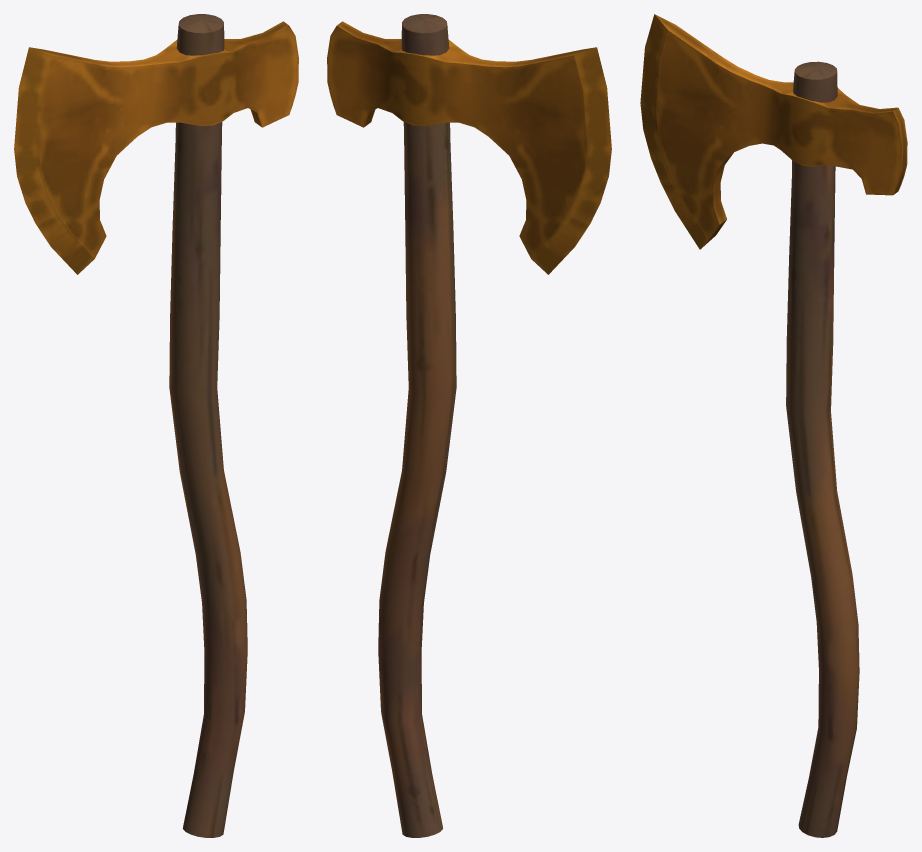
Rendered from w_axe.glb.
3 views of the same model, side by side, from view 1: azimuth 30°, elevation 25°; view 2: azimuth 150°, elevation 25°; view 3: azimuth 330°, elevation 25° (orthographic). The views are drawn at different scales.
Visible parts, largest first — view 1: Axe_Bronze; view 2: Axe_Bronze; view 3: Axe_Bronze.
Boxes of the visible parts, x1,y1,x2,y2 form: Axe_Bronze: [14, 14, 298, 837]; Axe_Bronze: [327, 14, 611, 837]; Axe_Bronze: [640, 14, 907, 837].
Bounding box in the file's own units: 0.2945 × 0.8269 × 0.046.
1 material, 1 textured.
